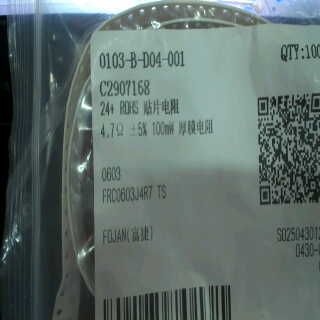4.7R: (95, 119, 126, 145)
